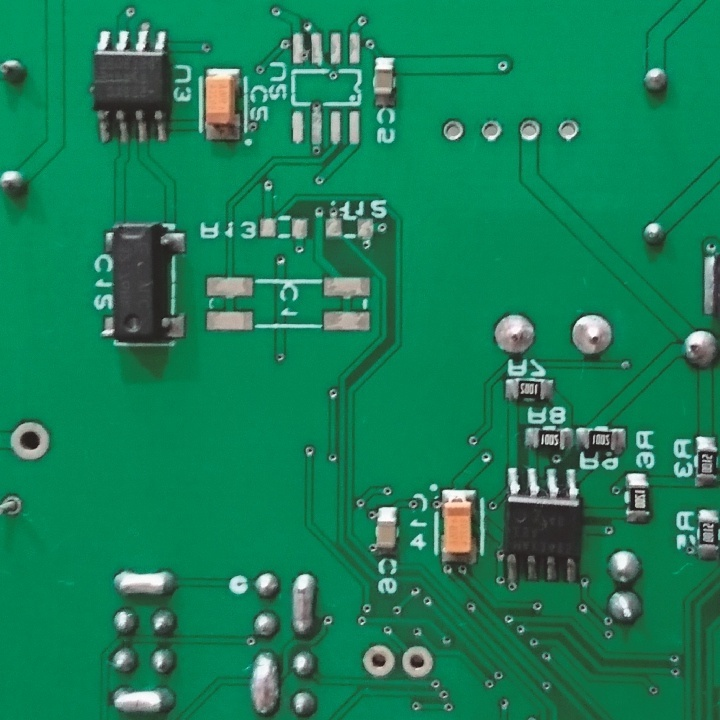F: (567, 310, 614, 358), (7, 416, 53, 464), (491, 311, 538, 357), (398, 643, 437, 684), (361, 643, 396, 680), (516, 115, 541, 146), (556, 115, 579, 148), (478, 117, 503, 146), (1, 492, 24, 523), (440, 117, 465, 144)
P: (247, 649, 285, 720), (107, 682, 178, 720), (288, 569, 319, 643), (109, 566, 177, 599)
